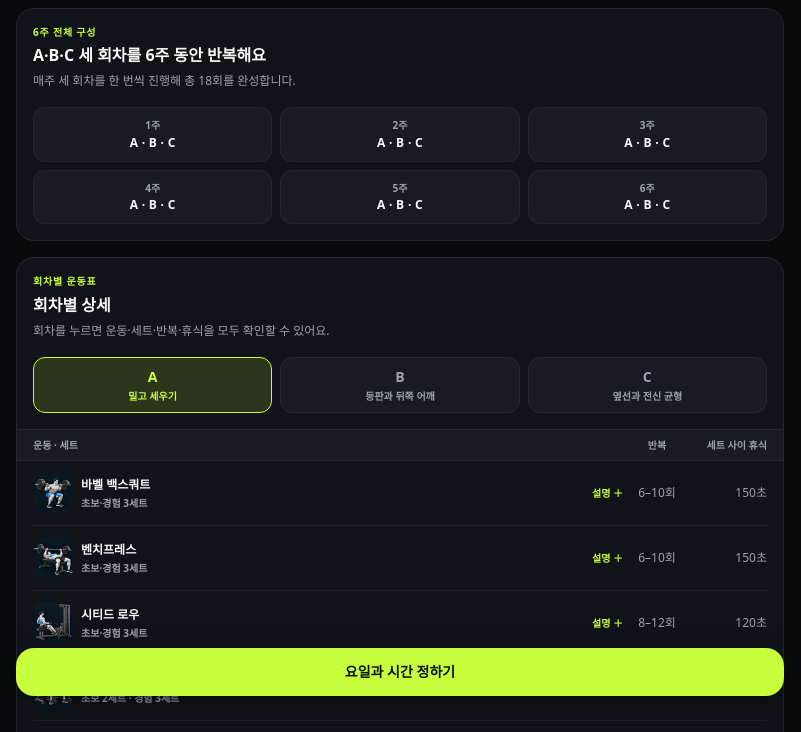
ProgramDetail › 6주 전체 반복 구조와 A·B·C 회차별 운동표를 전환해 보여준다
(page scrolled)
Check: the heading "A·B·C 세 회차를 6주 동안 반복해요" is shown, box [33, 44, 266, 66]
Check: the number of list items with test id "program-roadmap-week" is 6, box [33, 107, 272, 162]; [280, 107, 520, 162]; [528, 107, 767, 162]; [33, 170, 272, 224]; [280, 170, 520, 224]; [528, 170, 767, 224]
Click the tab with aria-label "B회 · 등판과 뒤쪽 어깨" at [400, 385], box [280, 357, 520, 413]
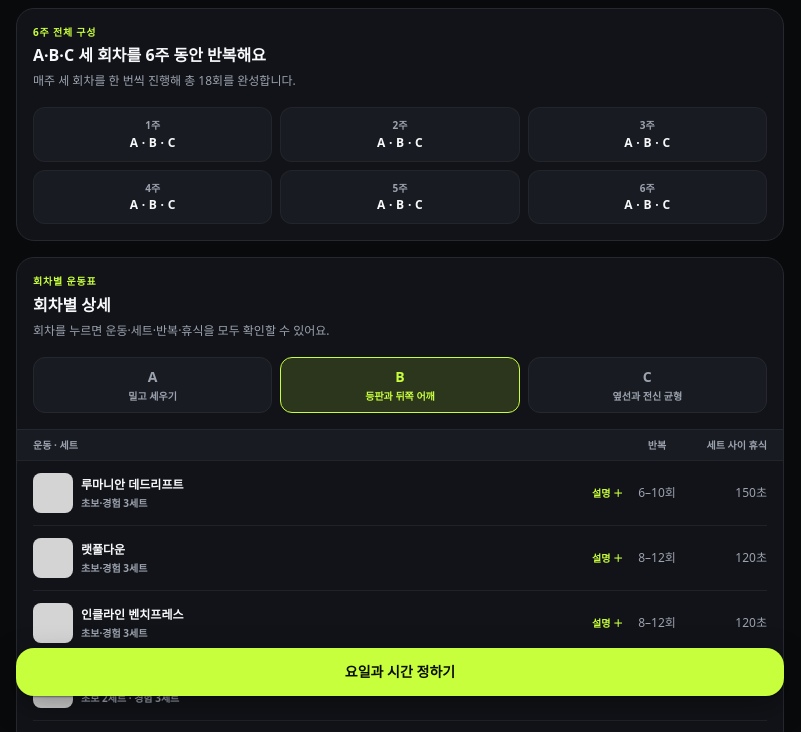
Check: the text "루마니안 데드리프트" is shown, box [81, 476, 184, 493]
Check: the button "바벨 백스쿼트" is gone
Click the tab with aria-label "C회 · 옆선과 전신 균형" at [647, 385], box [528, 357, 767, 413]
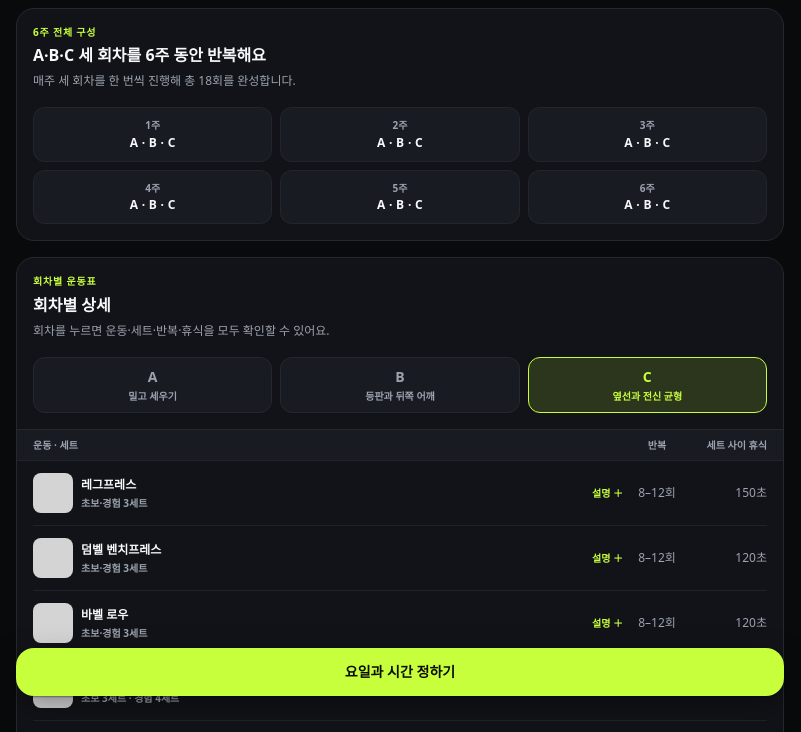
Check: the text "초보 3세트 · 경험 4세트" is shown, box [81, 691, 179, 705]
